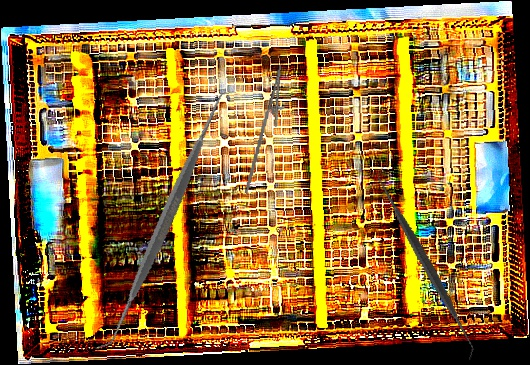Needle Holder: (243, 62, 293, 198)
Spatula Surgical: (36, 89, 294, 351), (328, 166, 524, 362)
